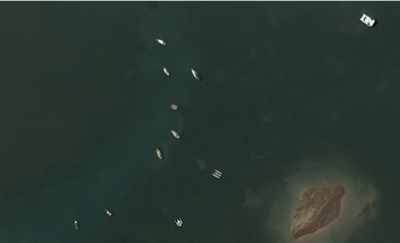boat: (359, 12, 376, 27), (211, 168, 225, 181), (191, 67, 202, 81), (171, 129, 182, 139), (174, 217, 185, 227), (103, 207, 113, 217), (162, 66, 171, 77), (156, 147, 163, 160), (156, 38, 167, 46), (170, 103, 180, 111), (74, 218, 80, 230)
